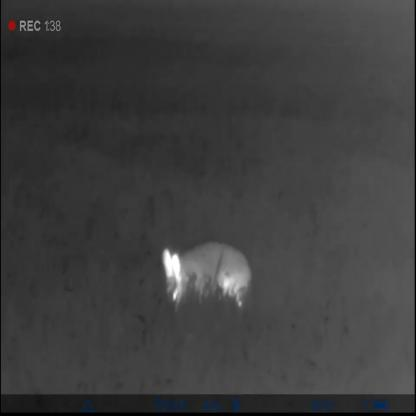rehkitze: (159, 238, 257, 310)
